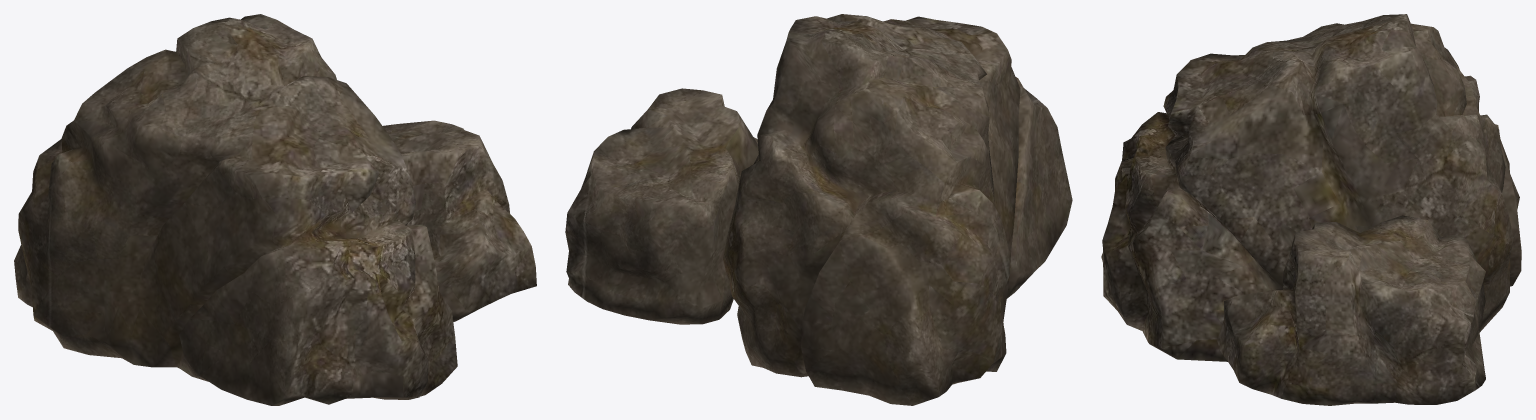
The model's file is x_rock_single_B.glb.
The picture shows the model from 3 angles, left to right: view 1: azimuth 30°, elevation 25°; view 2: azimuth 150°, elevation 25°; view 3: azimuth 270°, elevation 25°; orthographic projection. The views are drawn at different scales.
Visible parts, largest first — view 1: x_rock_single_B; view 2: x_rock_single_B; view 3: x_rock_single_B.
Part boxes in pixels (x1,y1,x2,y2): x_rock_single_B: (14, 14, 536, 405); x_rock_single_B: (565, 14, 1072, 405); x_rock_single_B: (1101, 14, 1521, 405).
Size of the model in its own units: 0.2866 by 0.2027 by 0.2605.
1 material, 1 textured.
